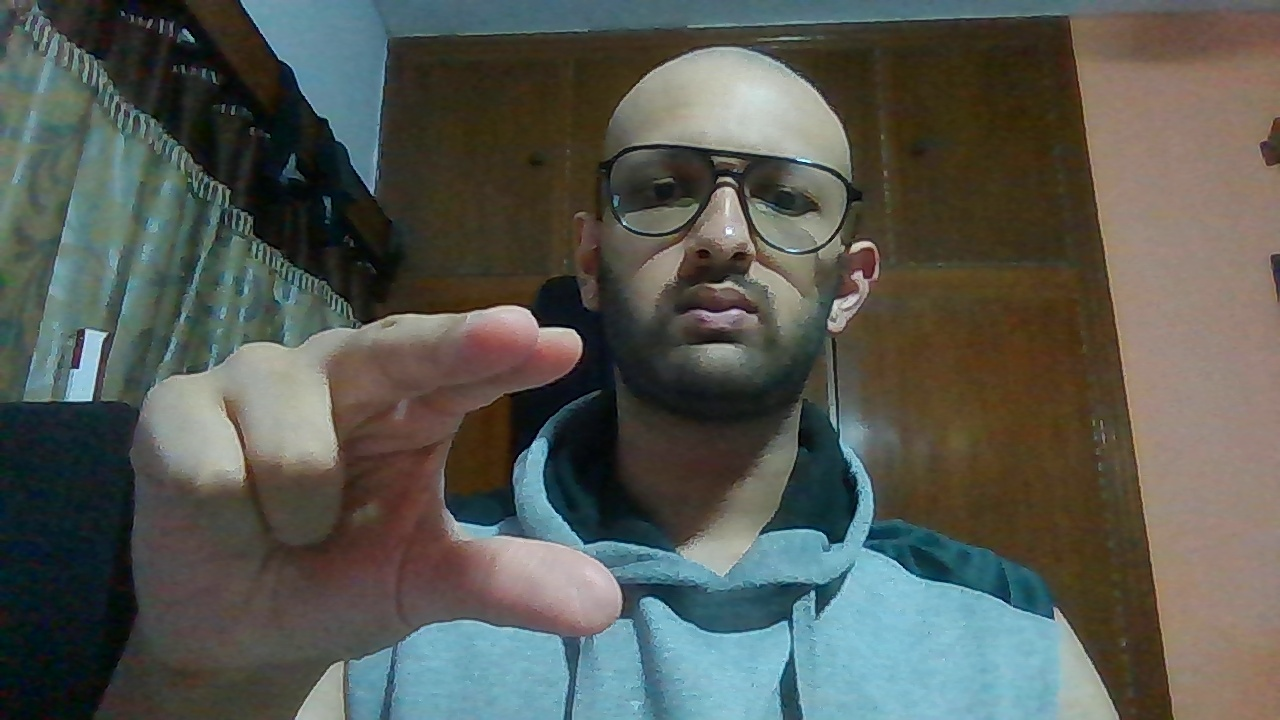No: (124, 293, 629, 663)
